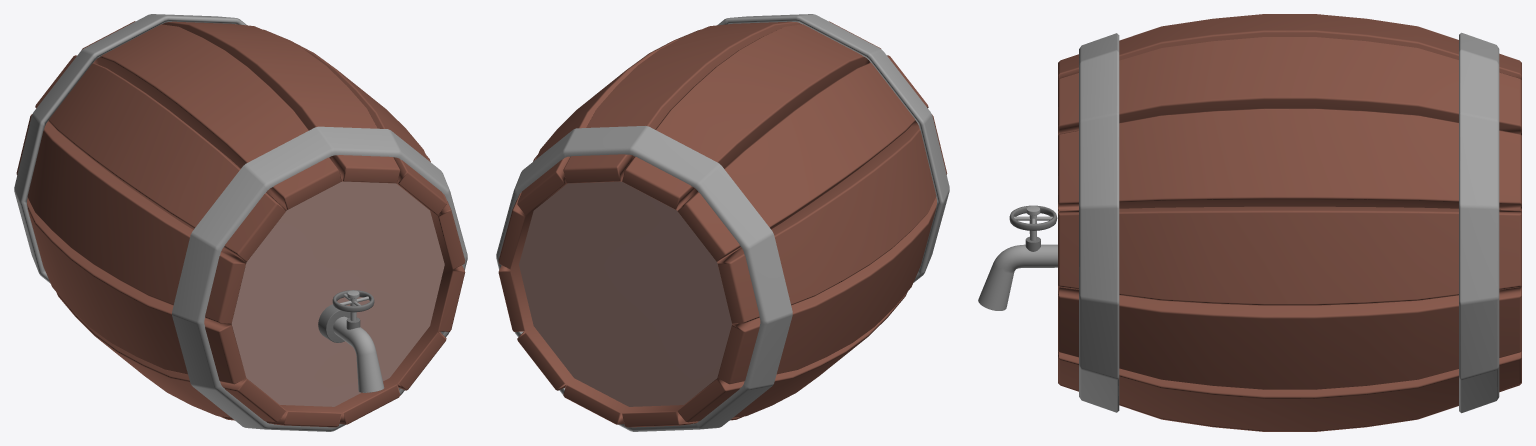
File: Store_16_Barrel_wiyh_tap_1.glb
3 renders of one model, left to right at view 1: azimuth 30°, elevation 25°; view 2: azimuth 150°, elevation 25°; view 3: azimuth 270°, elevation 25°, orthographic. The views are drawn at different scales.
Visible parts, largest first — view 1: Store_16_Barrel_wiyh_tap_1; view 2: Store_16_Barrel_wiyh_tap_1; view 3: Store_16_Barrel_wiyh_tap_1.
Part boxes in pixels (left/top/right/bottom): Store_16_Barrel_wiyh_tap_1: left=14, top=14, right=467, bottom=431; Store_16_Barrel_wiyh_tap_1: left=496, top=14, right=949, bottom=431; Store_16_Barrel_wiyh_tap_1: left=978, top=14, right=1521, bottom=431.
Bounding box in the file's own units: 0.3817 × 0.3817 × 0.4964.
1 material, 1 textured.
